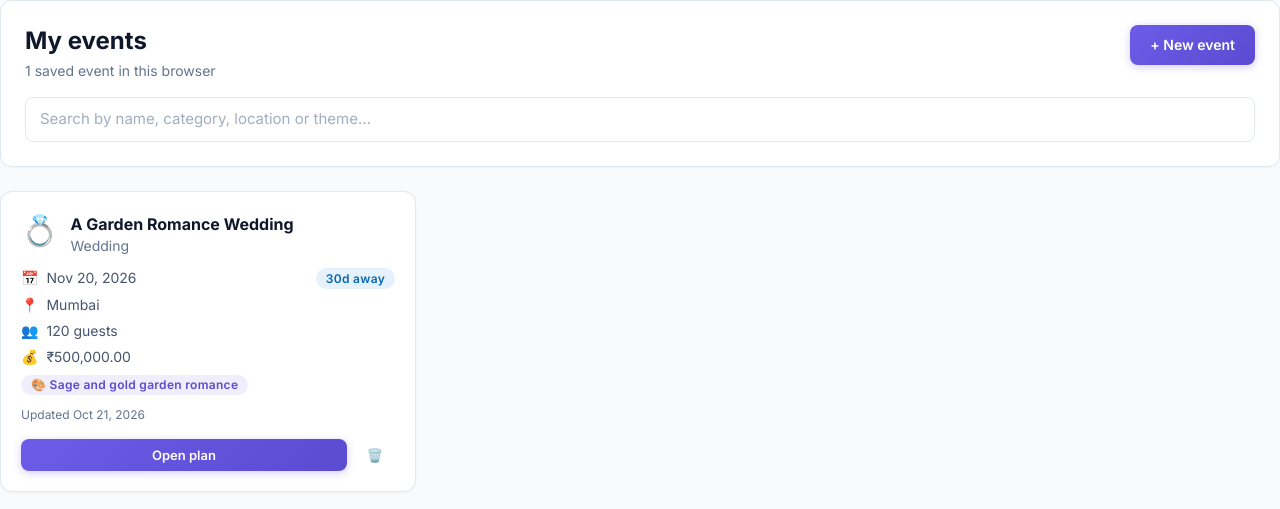
Test: SavedEventsDashboard › searches by location and reports no matches
The image size is (1280, 509).
Type "Atlantis" into the search field named "Search saved events".
click(640, 119); type("Atlantis")  # box 25,97 -> 1255,142
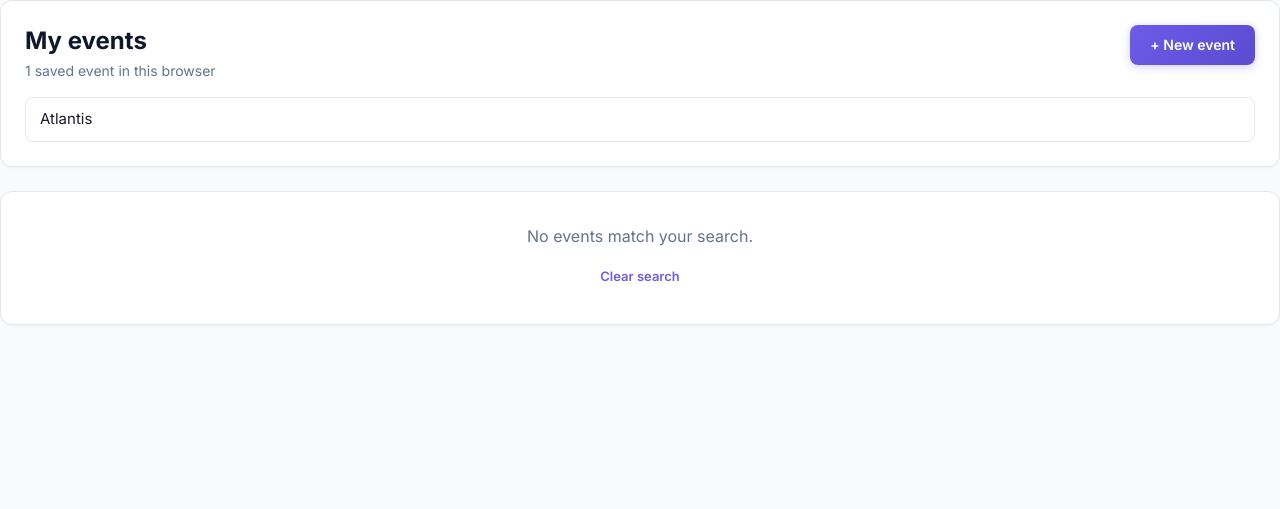
Expected: the text "No events match your search." is shown, 527,226 -> 753,246
